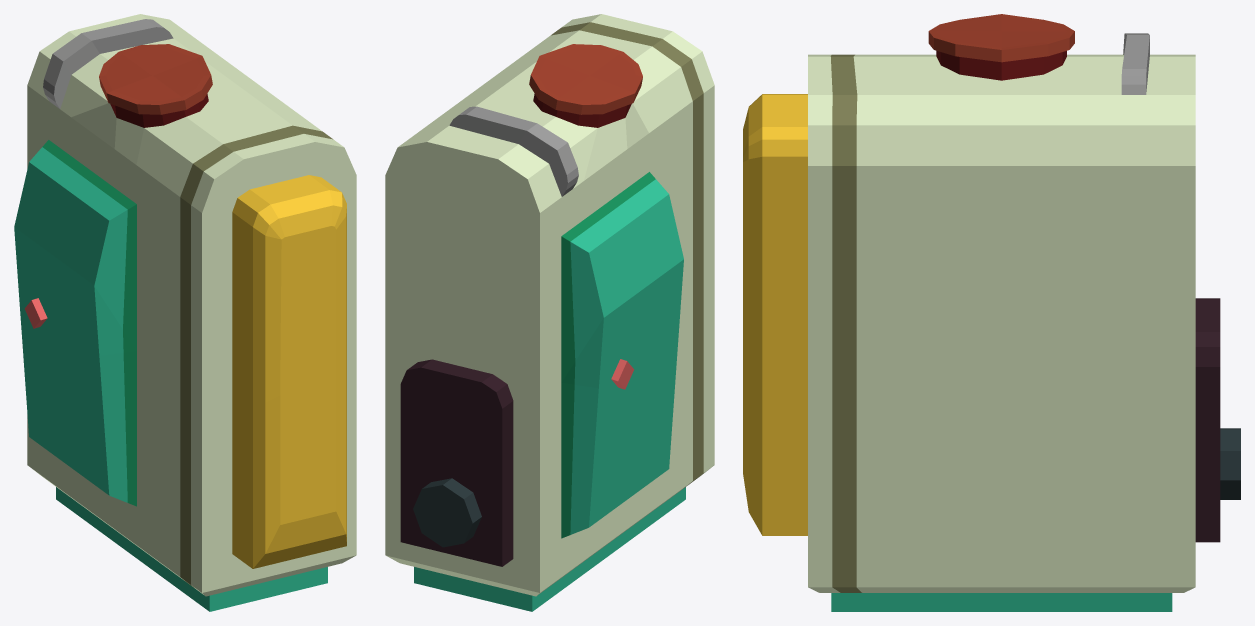
File: fumigator_1.fbx
3 views of the same model, side by side, from view 1: azimuth 30°, elevation 25°; view 2: azimuth 150°, elevation 25°; view 3: azimuth 270°, elevation 25° (orthographic). The views are drawn at different scales.
Parts seen in each view (by area): view 1: fumigator_1; view 2: fumigator_1; view 3: fumigator_1.
Part boxes in pixels (<box>): fumigator_1: <box>14,14,356,611</box>; fumigator_1: <box>385,14,714,611</box>; fumigator_1: <box>743,14,1240,611</box>.
Bounding box in the file's own units: 94.81 × 223 × 188.
